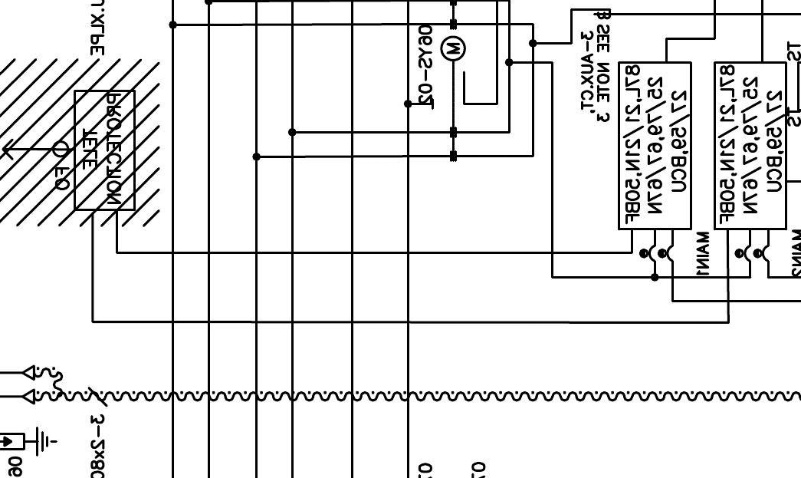115_1way_ds_w_motor: (431, 35, 466, 110)
tele_protection: (72, 88, 138, 213)
